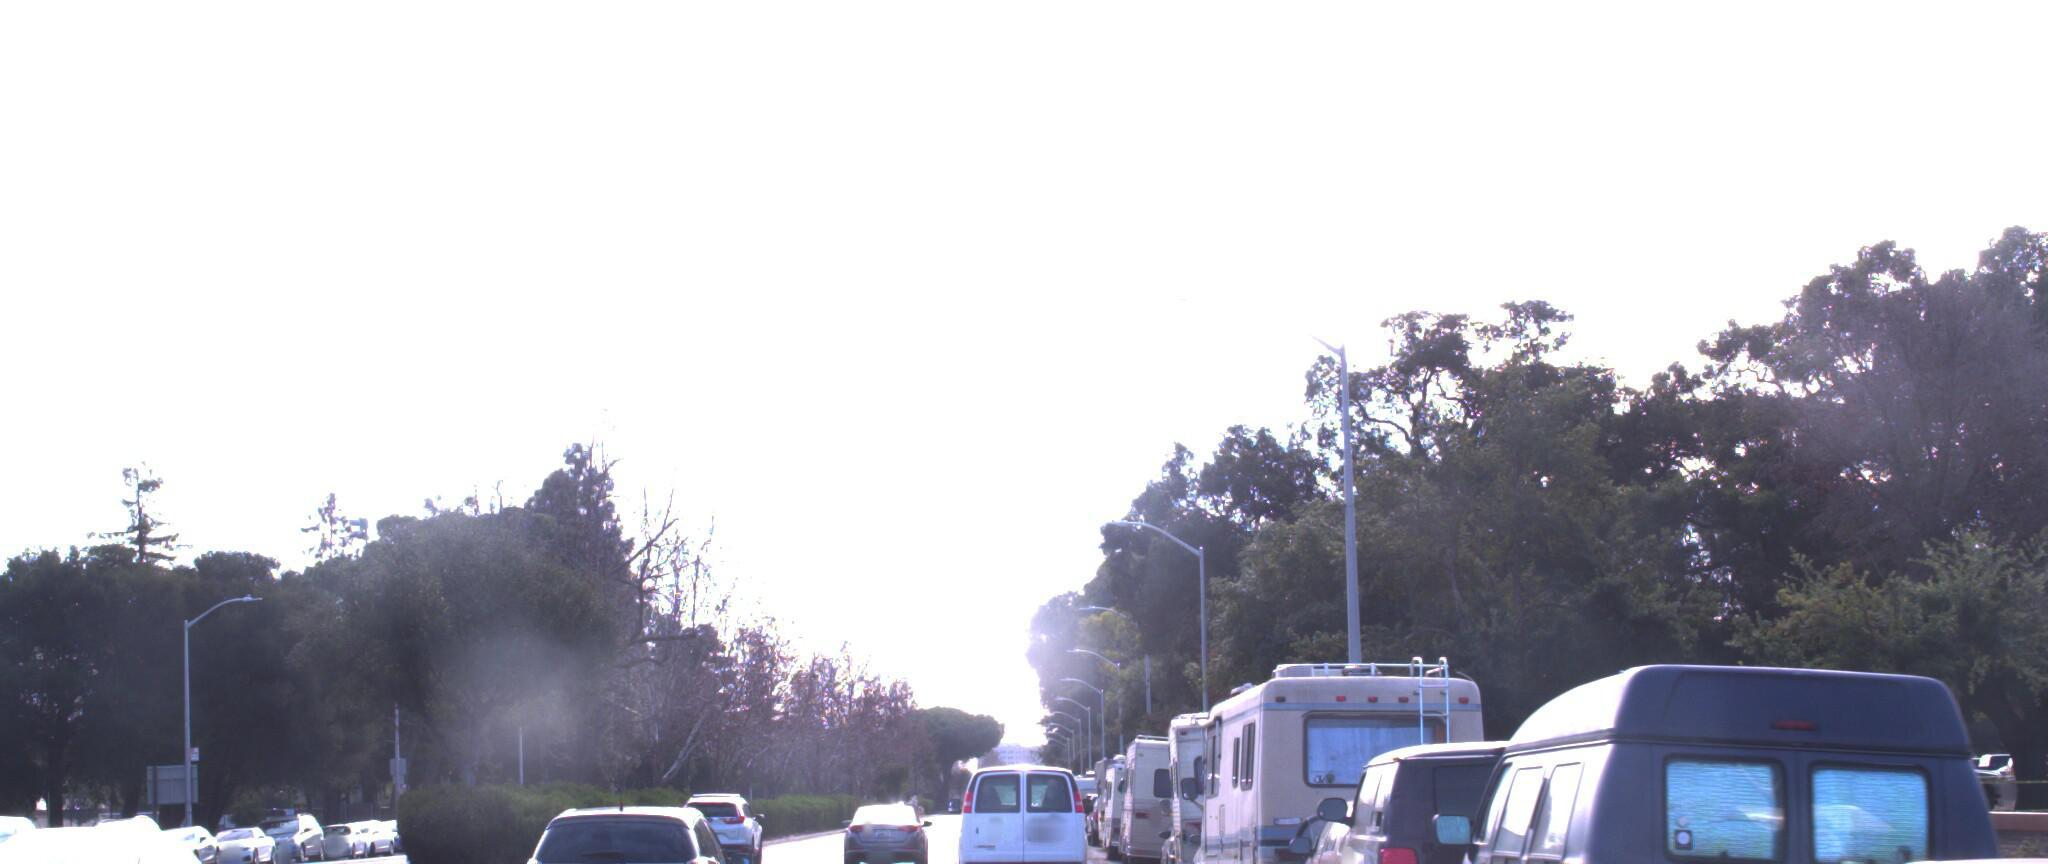car: (1400, 629, 2048, 864), (1307, 707, 1661, 864), (1271, 769, 1539, 864), (0, 783, 286, 864), (499, 777, 761, 864), (1631, 820, 2048, 864), (948, 733, 1080, 864), (671, 771, 775, 846), (832, 780, 922, 857), (0, 795, 63, 864)
other_vehicle: (1168, 617, 1501, 864), (1153, 676, 1330, 864), (1108, 703, 1258, 861)
